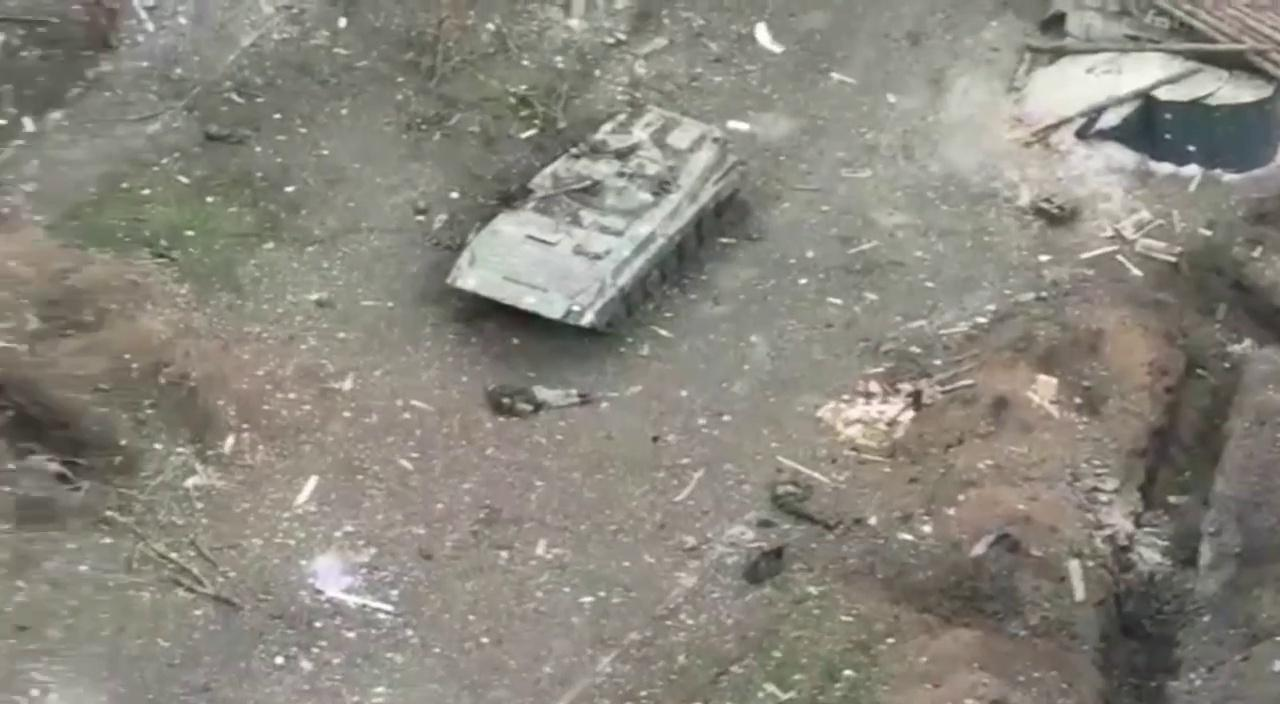person: (488, 384, 598, 414)
vehicle: (443, 106, 740, 338)
